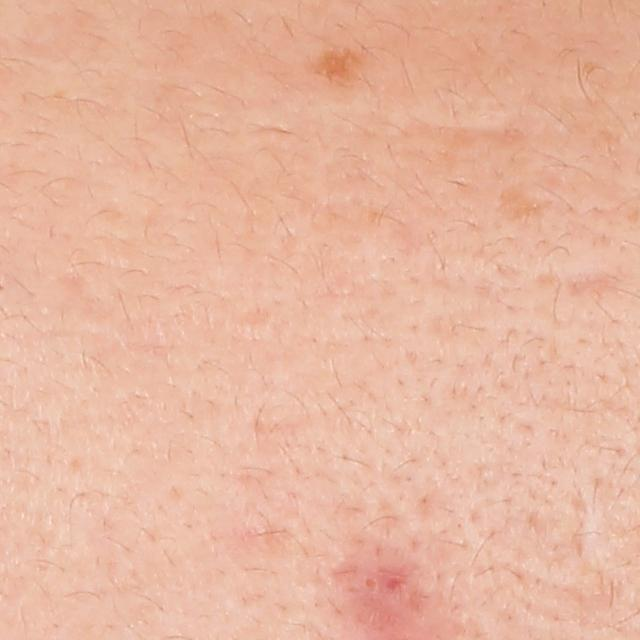atrophic_scar: (493, 175, 562, 229)
